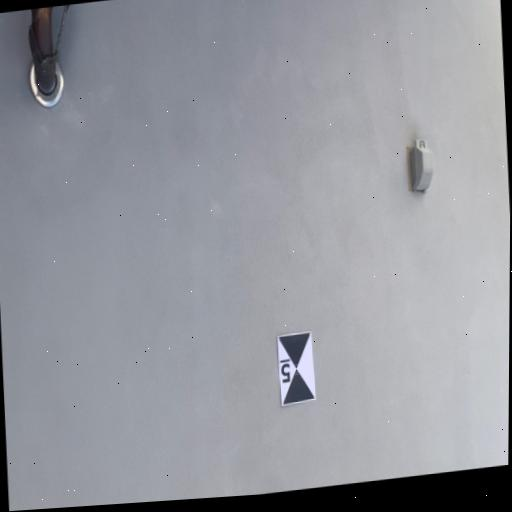target5: (278, 332, 316, 406)
